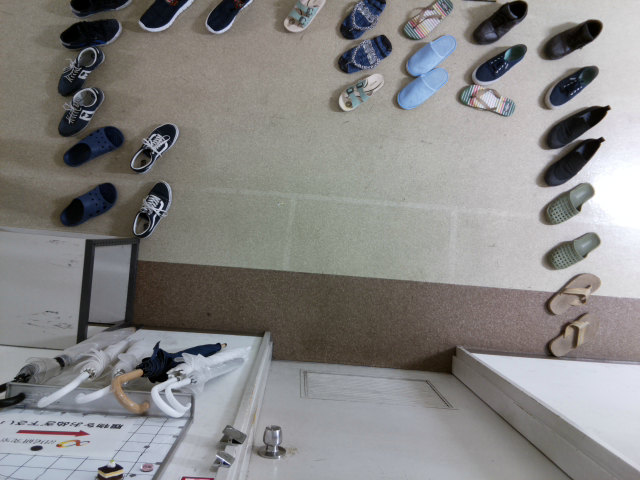Copy of Copy of Copy of Copy of Copy of Copy of Copy of Copy of Copy of Copy of: (121, 172, 182, 239), (57, 120, 129, 171), (51, 180, 123, 231), (48, 43, 111, 100), (46, 82, 109, 139), (120, 120, 183, 177), (331, 30, 398, 78), (393, 62, 455, 113), (401, 29, 462, 80), (465, 1, 531, 48), (329, 68, 391, 117), (56, 14, 131, 52), (395, 1, 459, 44), (333, 1, 391, 43), (133, 1, 194, 38), (272, 1, 330, 38), (200, 1, 257, 38), (63, 1, 139, 21)
Copy of Copy of Copy of Copy of Copy of Copy of Copy of Copy of Copy of shoe: (468, 38, 532, 86)
Copy of Copy of Copy of Copy of Copy of Copy of Copy of Copy of shoe: (454, 77, 518, 125)
Copy of Copy of Copy of Copy of Copy of Copy of Copy of shoe: (536, 11, 608, 64)
Copy of Copy of Copy of Copy of Copy of Copy of shoe: (540, 62, 600, 114)
Copy of Copy of Copy of Copy of Copy of shoe: (538, 96, 618, 153)
Copy of Copy of Copy of Copy of Copy of umbrella: (162, 334, 255, 419)
Copy of Copy of Copy of Copy of shoe: (535, 133, 610, 193)
Copy of Copy of Copy of Copy of umbrella: (147, 340, 261, 423)
Copy of Copy of Copy of shoe: (540, 178, 599, 230)
Copy of Copy of Copy of umbrella: (110, 332, 230, 418)
Copy of Copy of shoe: (541, 227, 604, 275)
Copy of Copy of umbrella: (74, 307, 156, 409)
Copy of shoe: (543, 266, 605, 317)
Copy of umbrella: (32, 311, 145, 417)
shoe: (547, 306, 601, 360)
umbrella: (3, 311, 143, 416)
